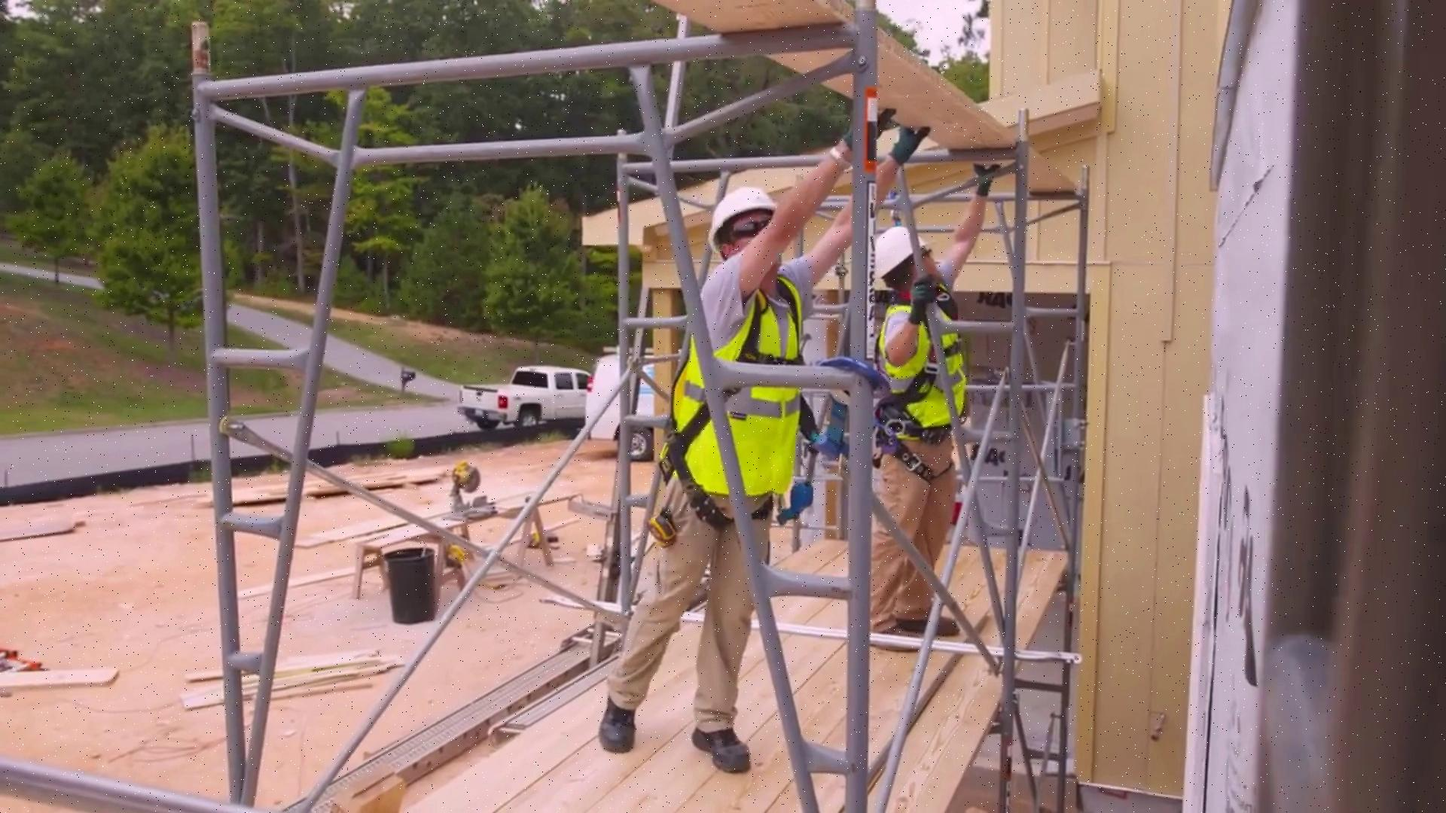Hard_hat: (696, 182, 780, 247), (868, 220, 927, 274)
Vest: (660, 285, 829, 495), (871, 303, 974, 441)
